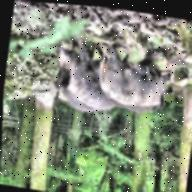boar: (71, 25, 192, 144), (47, 28, 134, 121)
